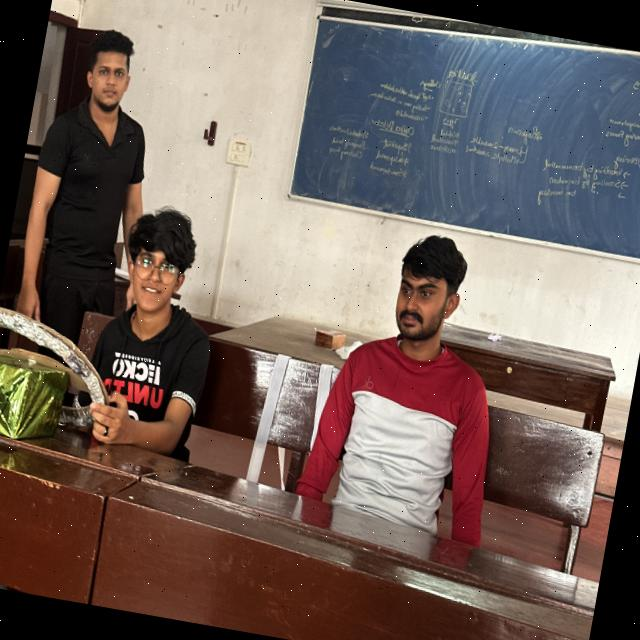Helmet: (284, 330, 502, 552), (67, 270, 235, 479)
